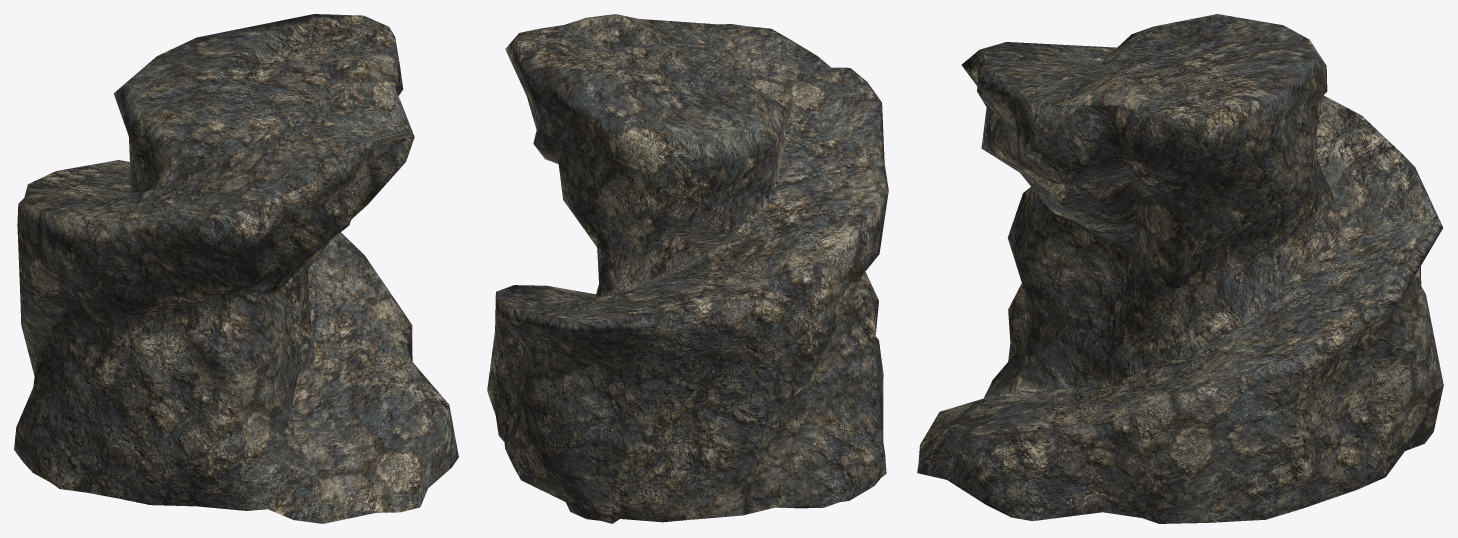
Rendered from Rock4.fbx.
3 views of the same model, side by side, from view 1: azimuth 30°, elevation 25°; view 2: azimuth 150°, elevation 25°; view 3: azimuth 270°, elevation 25° (orthographic). The views are drawn at different scales.
Parts seen in each view (by area): view 1: Rock4; view 2: Rock4; view 3: Rock4.
Boxes of the visible parts, bbox=[...] form: Rock4: bbox=[14, 14, 458, 523]; Rock4: bbox=[487, 14, 888, 523]; Rock4: bbox=[917, 14, 1443, 523].
Size of the model in its own units: 77.16 by 74.05 by 84.79.
